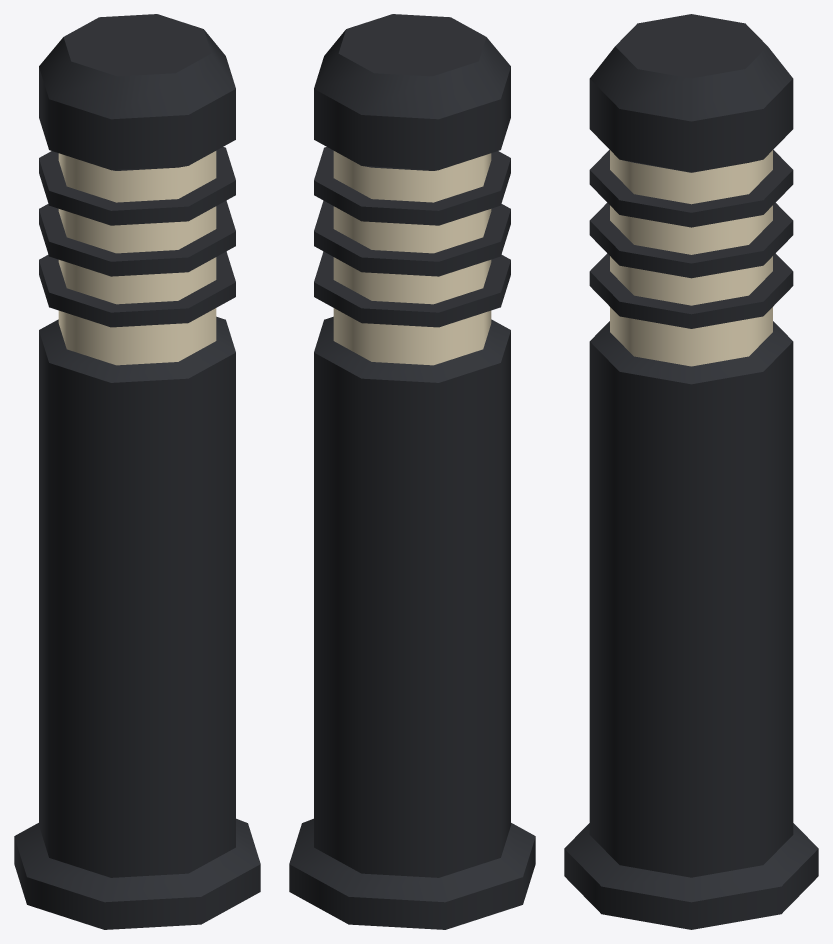
The model's file is prop_bollard_light.glb.
3 renders of one model, left to right at view 1: azimuth 30°, elevation 25°; view 2: azimuth 150°, elevation 25°; view 3: azimuth 270°, elevation 25°, orthographic.
Visible parts, largest first — view 1: prop_bollard_light__mesh; view 2: prop_bollard_light__mesh; view 3: prop_bollard_light__mesh.
Boxes of the visible parts, x1,y1,x2,y2 form: prop_bollard_light__mesh: (14,14,260,929); prop_bollard_light__mesh: (289,14,535,929); prop_bollard_light__mesh: (564,14,818,929).
Size of the model in its own units: 0.25 by 0.9 by 0.25.
Materials: 1 (1 with a texture image).
